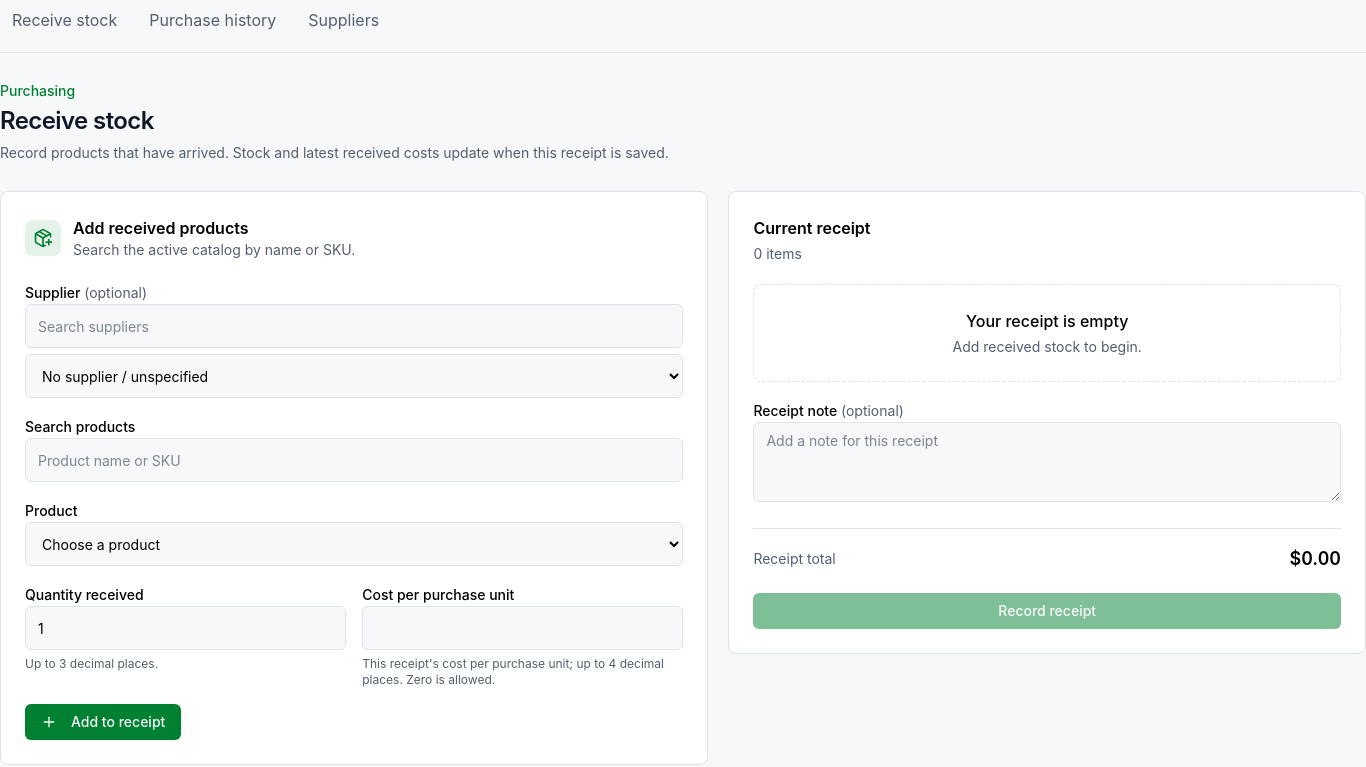
purchasing receiving page › prevents double submission and preserves receipt lines after failure
The width and height of the screenshot is (1366, 767).
Select "Coffee Beans · SKU COF-1" in the dropdown labelled "Product" at (354, 544), box [25,522,683,566]
(page scrolled)
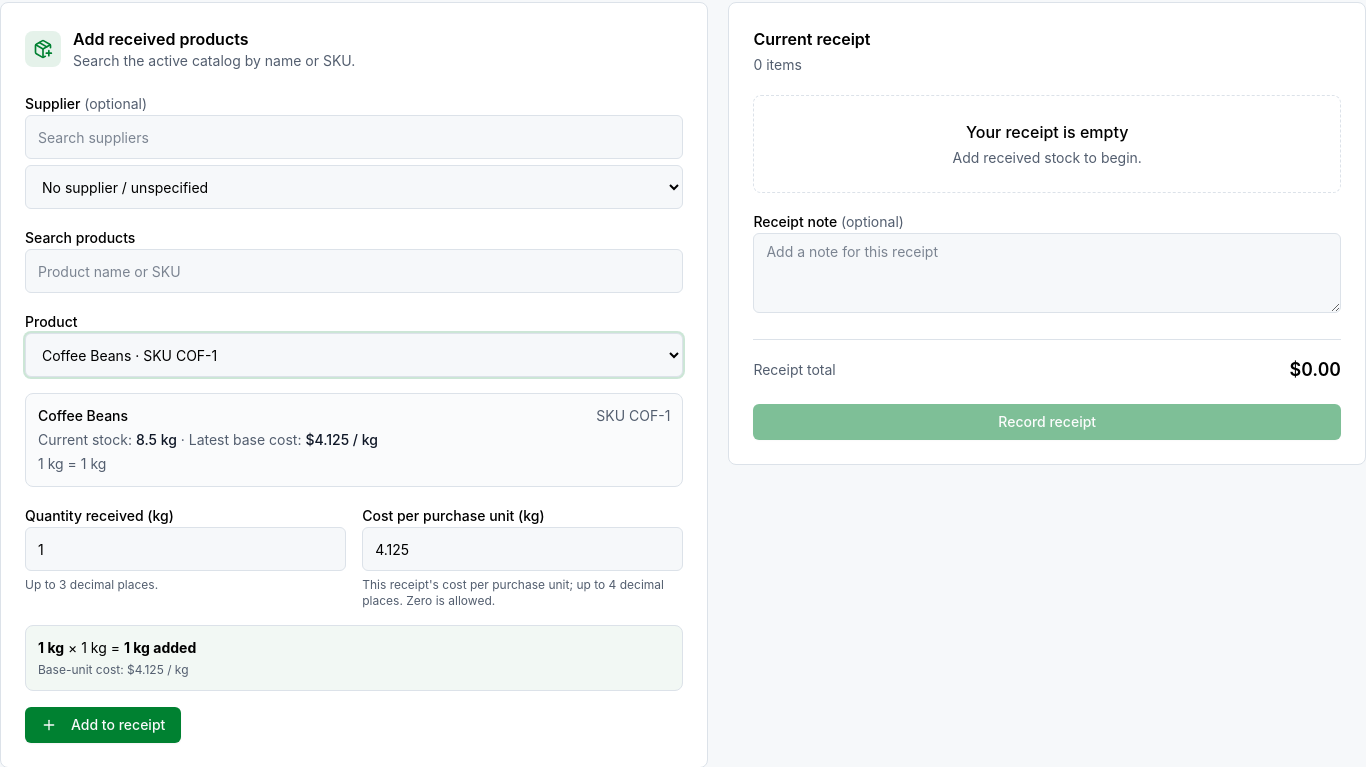
Click the button "Add to receipt".
click(103, 725)  # box [25,707,181,743]
(page scrolled)
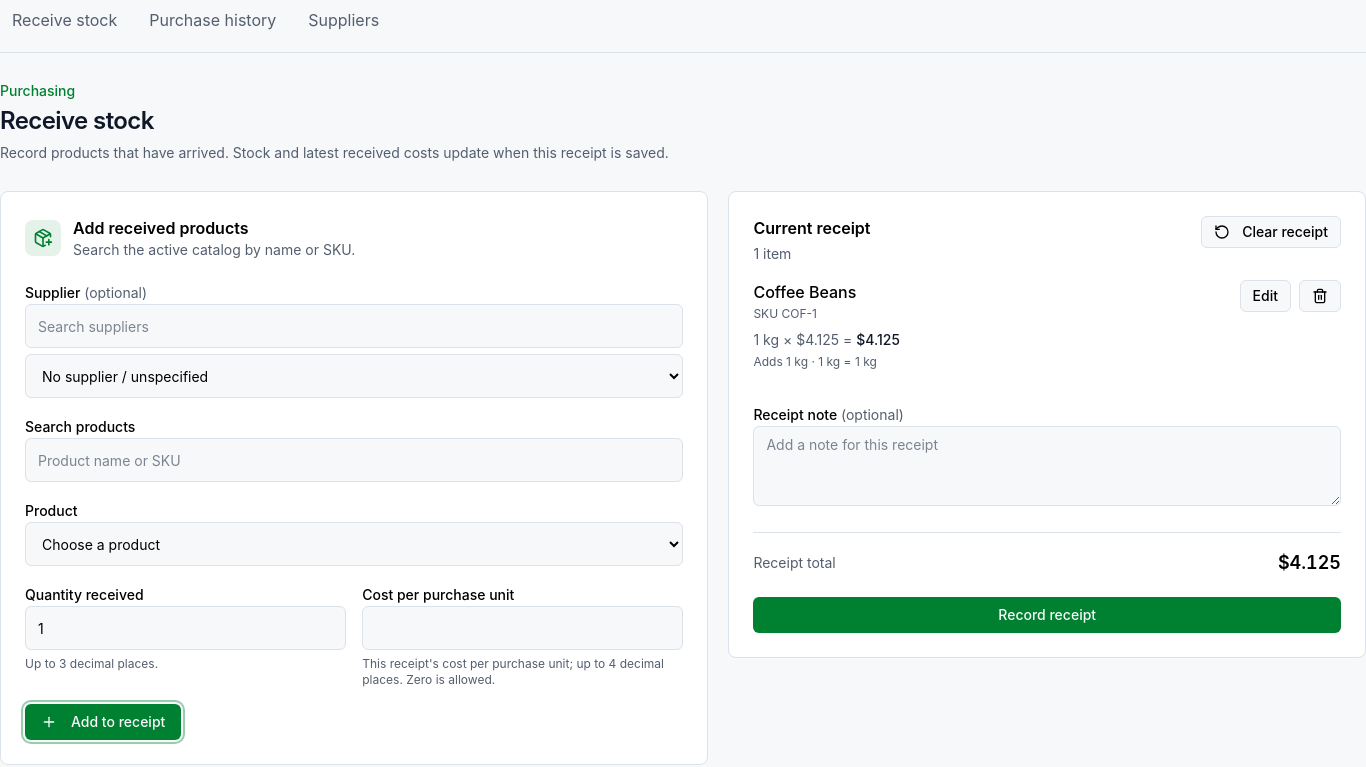
Click the button "Record receipt".
click(1047, 615)  # box [753,597,1341,633]
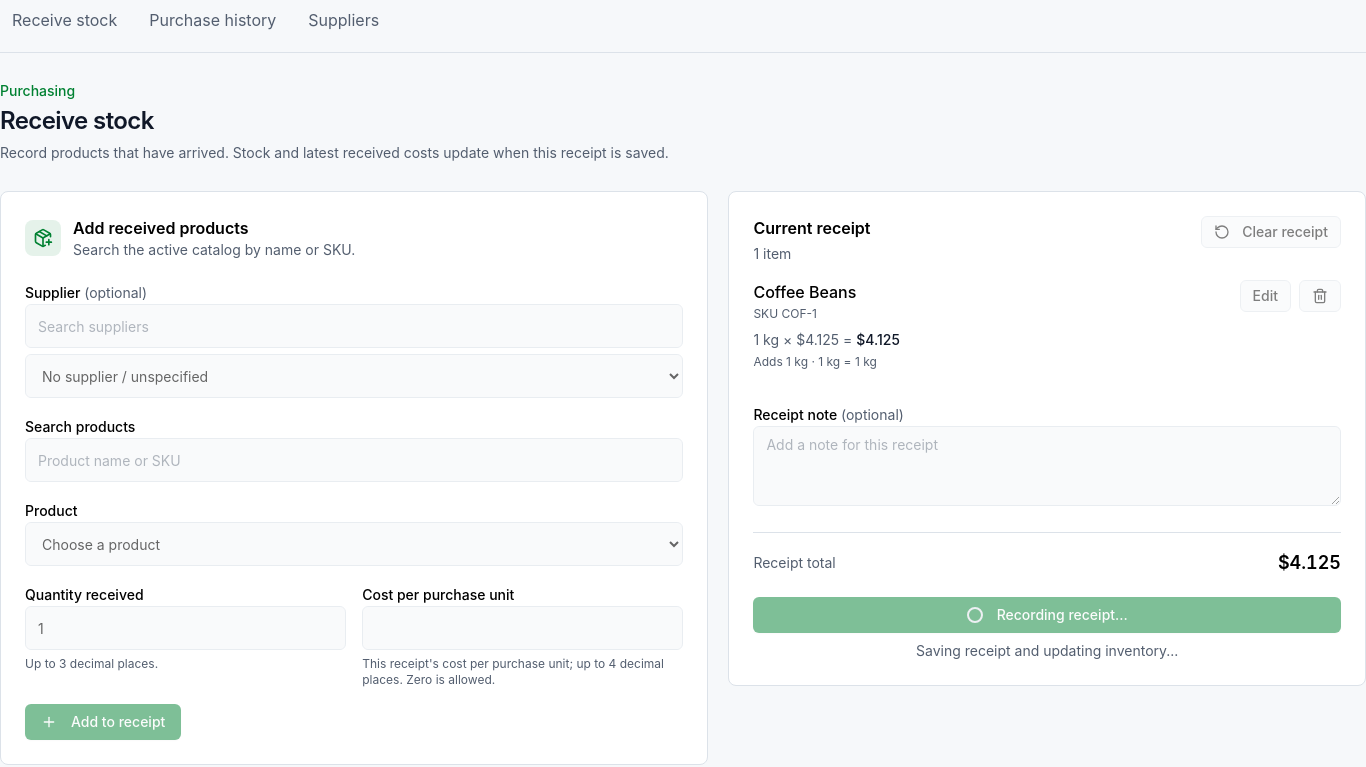
Click the button named "record receipt".
click(1047, 615)  # box [753,597,1341,633]
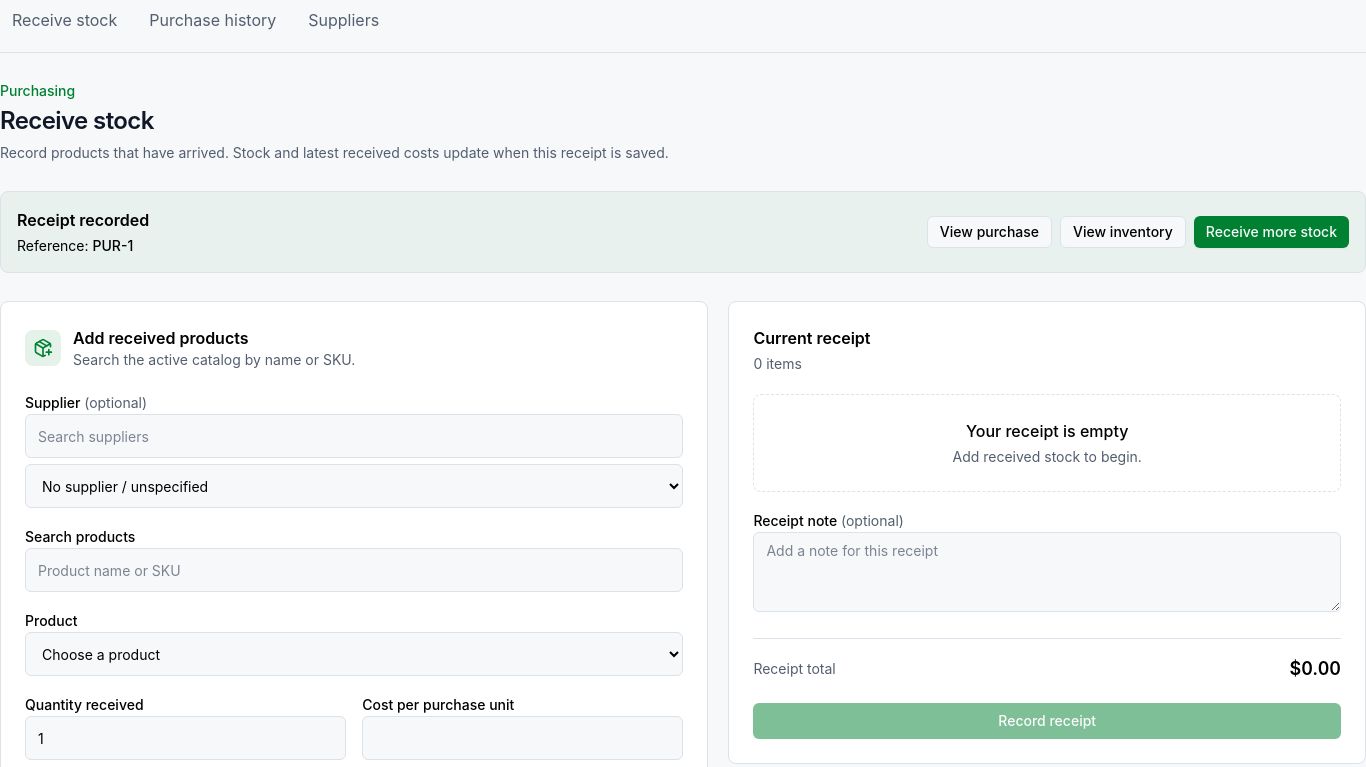
Now the text "Your receipt is empty" is shown, box [966,421,1128,441]
